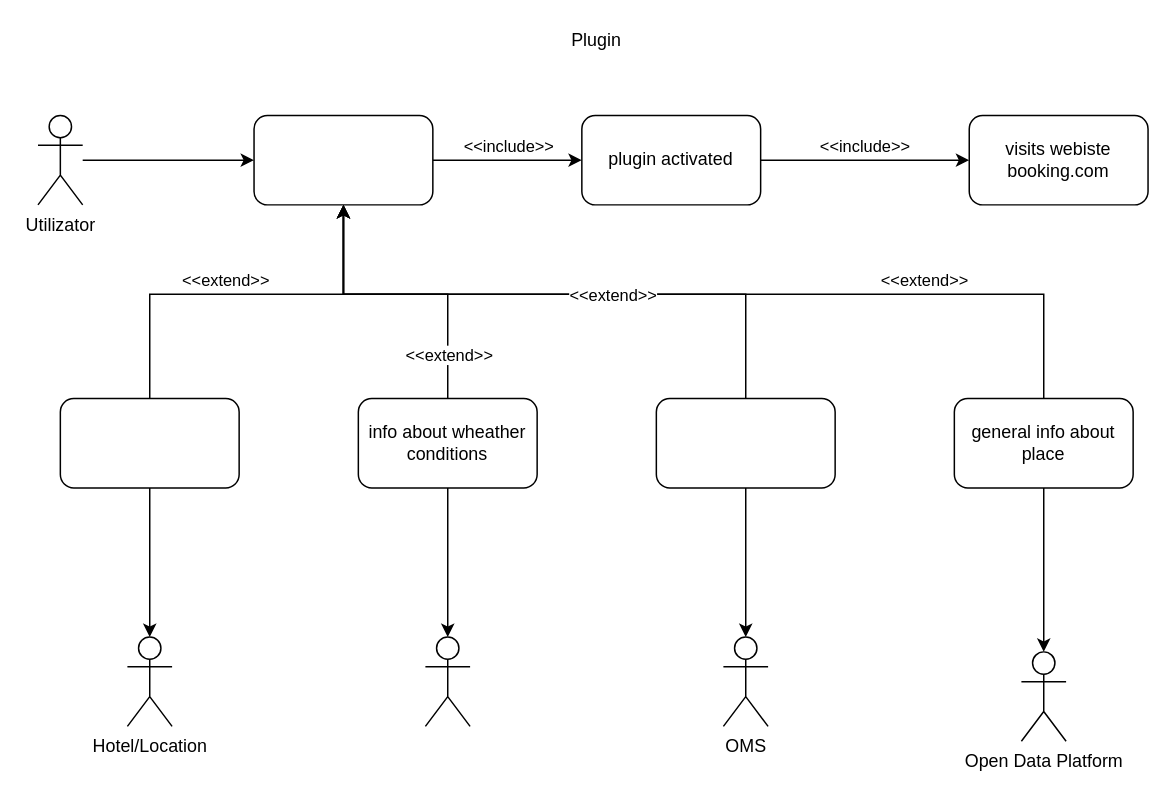
The diagram is 1174 pixels wide and 797 high, and some of its shapes have lost their labels. Here are the shapes that lost their labels. From the top down, the box of each, then its label:
(253, 114, 433, 205): user request
(59, 397, 239, 488): info about hotel
(655, 397, 835, 488): covid19 restrictions
(424, 635, 470, 726): Google Wheather
